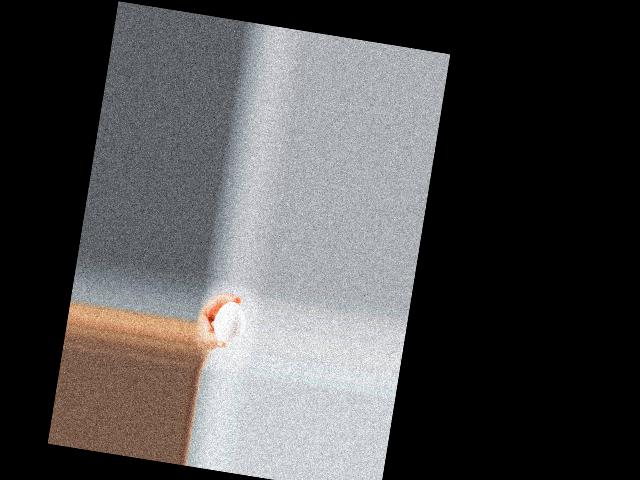egg: (211, 299, 248, 344)
